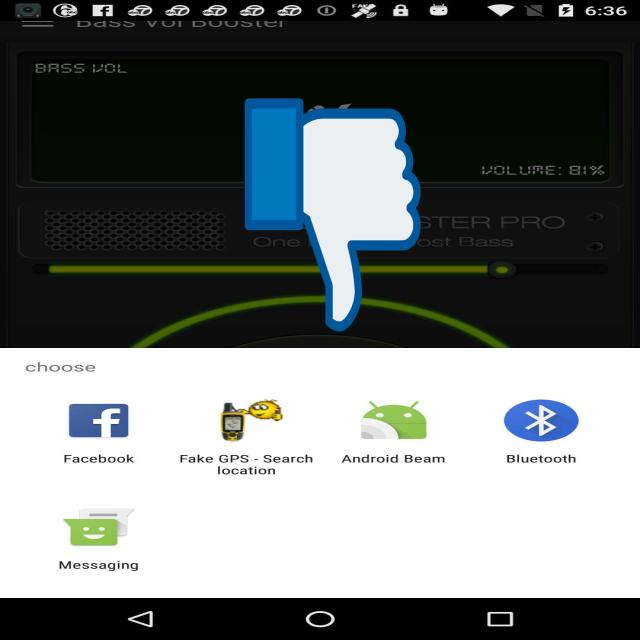obstruction: (244, 93, 420, 337)
